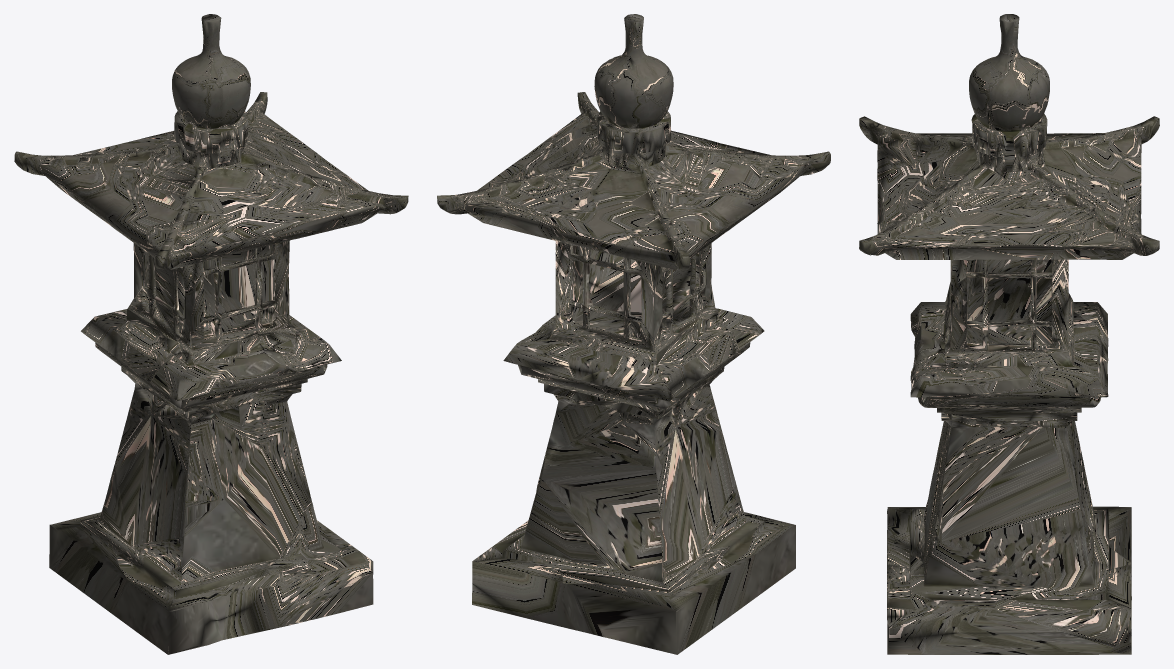
File: lantern.glb
3 views of the same model, side by side, from view 1: azimuth 30°, elevation 25°; view 2: azimuth 150°, elevation 25°; view 3: azimuth 270°, elevation 25° (orthographic). The views are drawn at different scales.
Parts seen in each view (by area): view 1: output_unwrapped; view 2: output_unwrapped; view 3: output_unwrapped.
Boxes of the visible parts, x1=… form: output_unwrapped: x1=14, y1=14, x2=408, y2=654; output_unwrapped: x1=437, y1=14, x2=830, y2=654; output_unwrapped: x1=859, y1=14, x2=1159, y2=654.
Bounding box in the file's own units: 0.8867 × 1.9 × 0.8858.
1 material, 1 textured.
